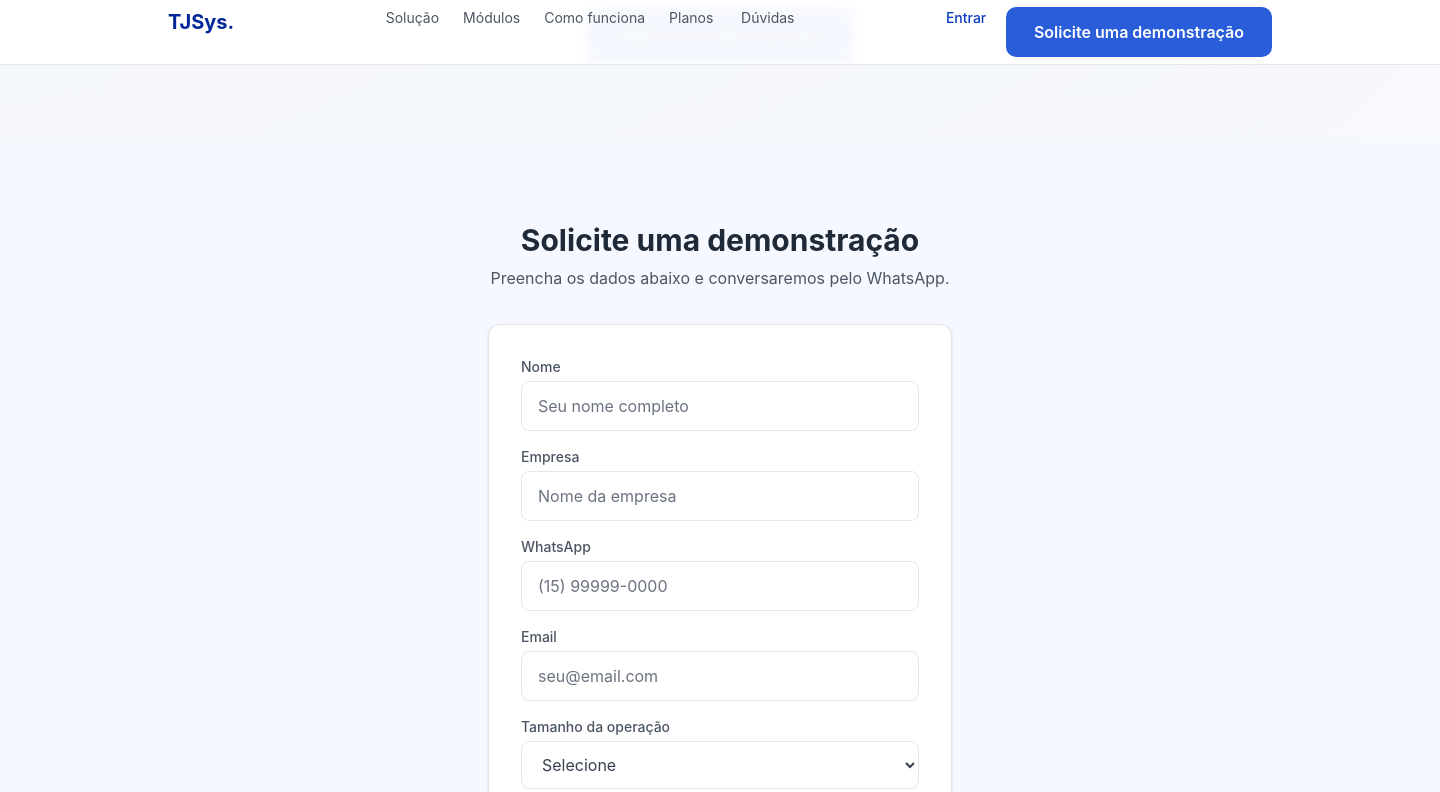
Test case: LandingPage › rejeita WhatsApp alfabético antes de abrir o link
The width and height of the screenshot is (1440, 792).
(page scrolled)
Type "Ana Silva" into the field labelled "Nome" at (720, 406), box [521,381,919,431]
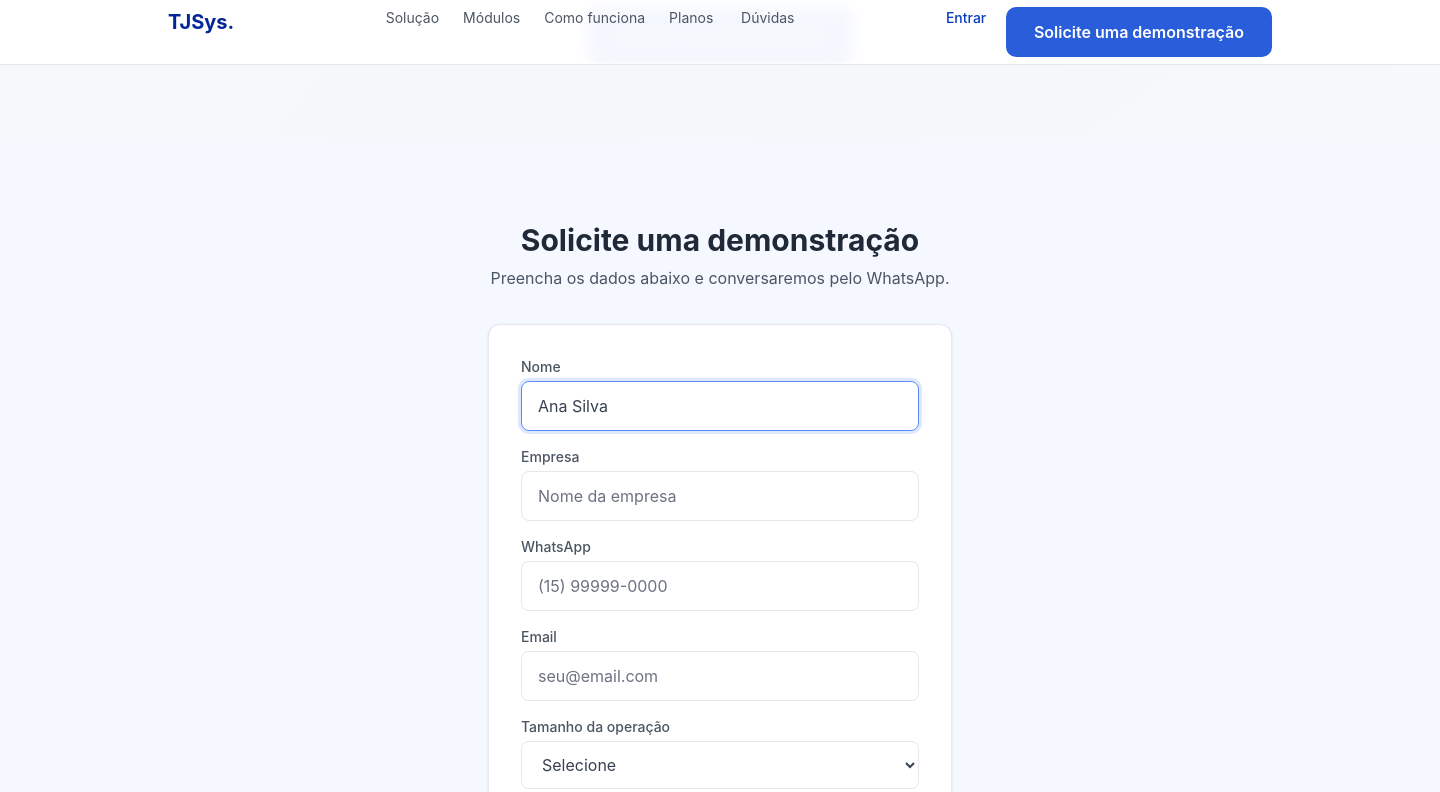
Type "Loja Central" into the field labelled "Empresa" at (720, 496), box [521,471,919,521]
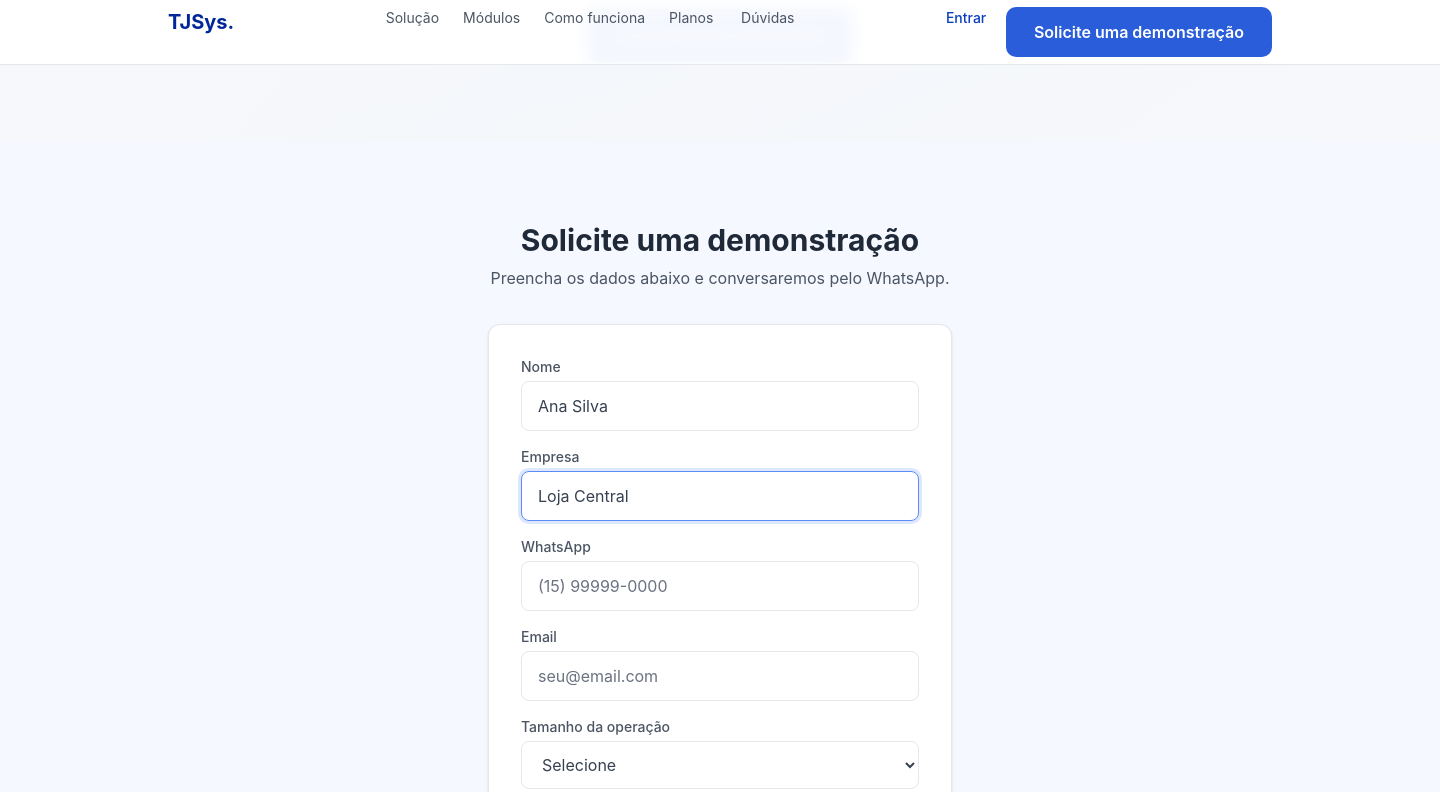
Type "15999ABC99" into the field labelled "WhatsApp" at (720, 586), box [521,561,919,611]
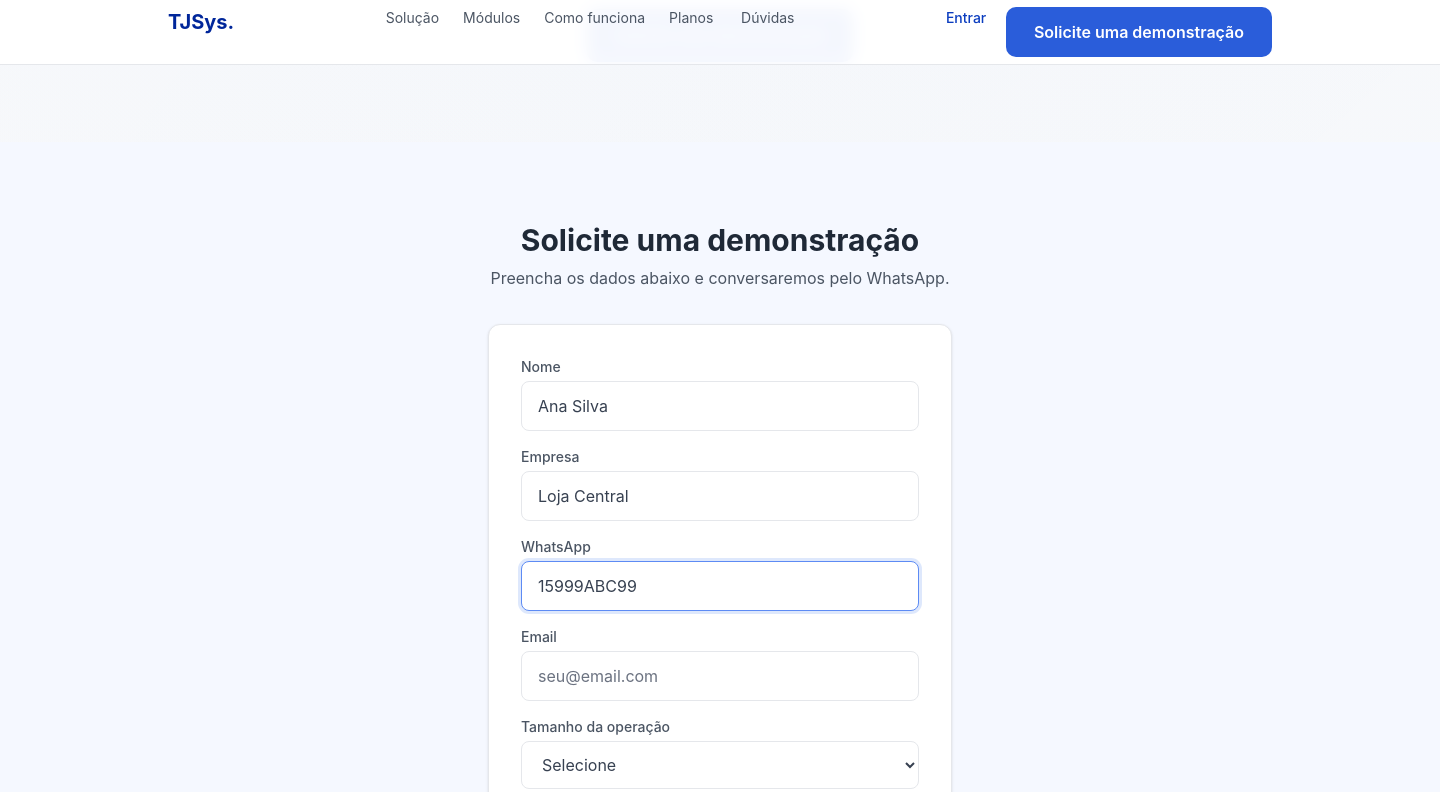
Type "ana@example.com" into the field labelled "Email" at (720, 676), box [521,651,919,701]
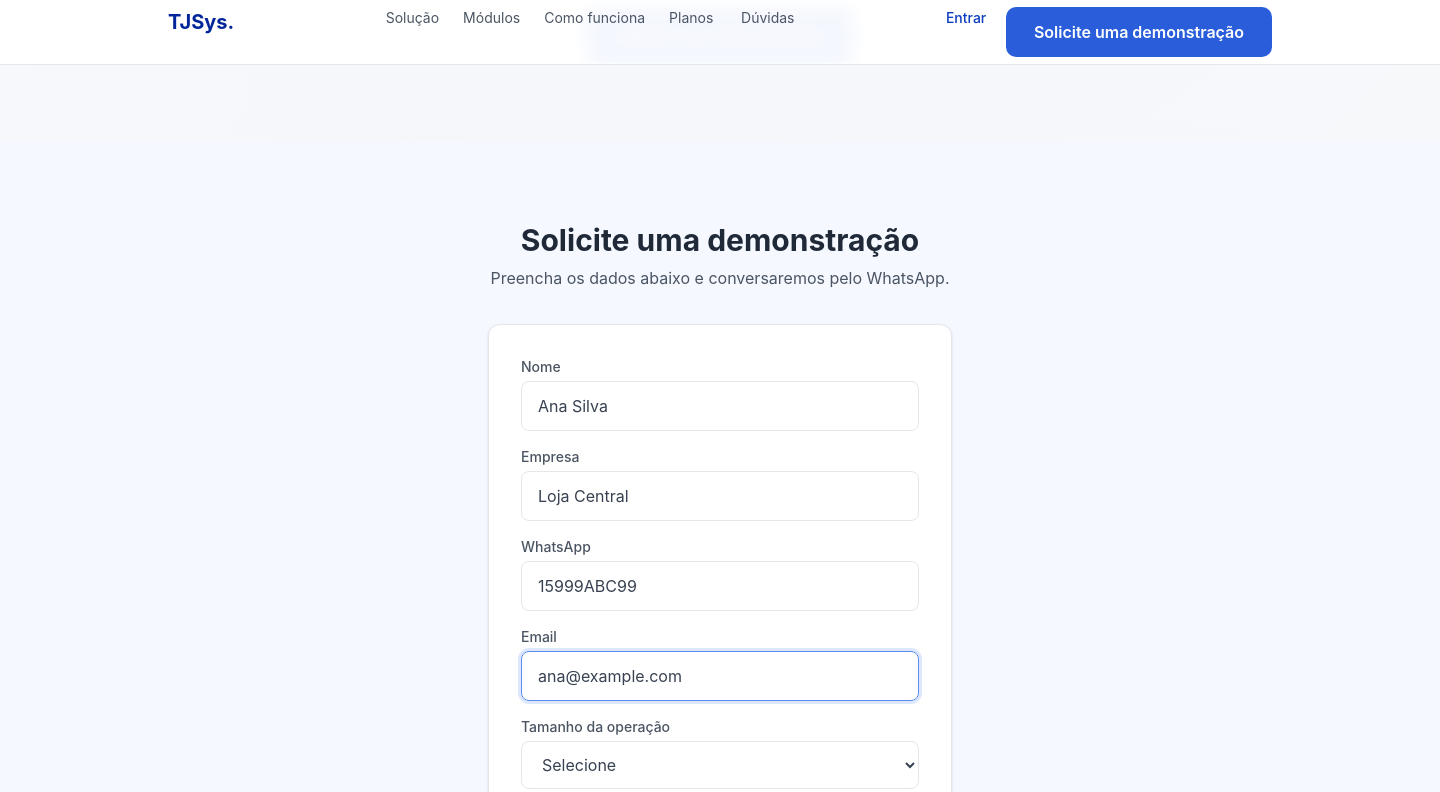
Select "Pequena (1-2 lojas)" in the dropdown labelled "Tamanho da operação" at (720, 765), box [521,741,919,789]
(page scrolled)
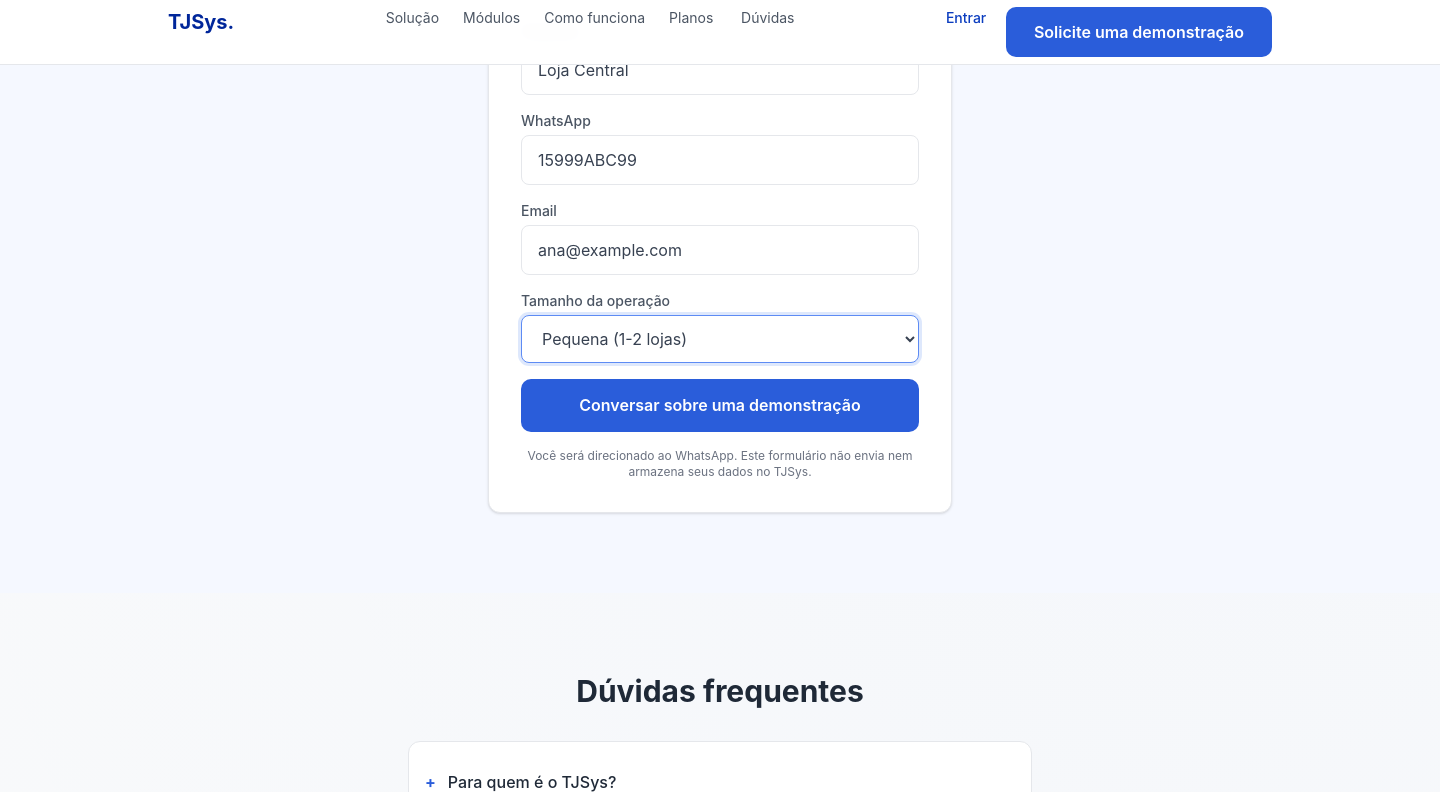
Click the button "Conversar sobre uma demonstração" at (720, 406), box [521,379,919,432]
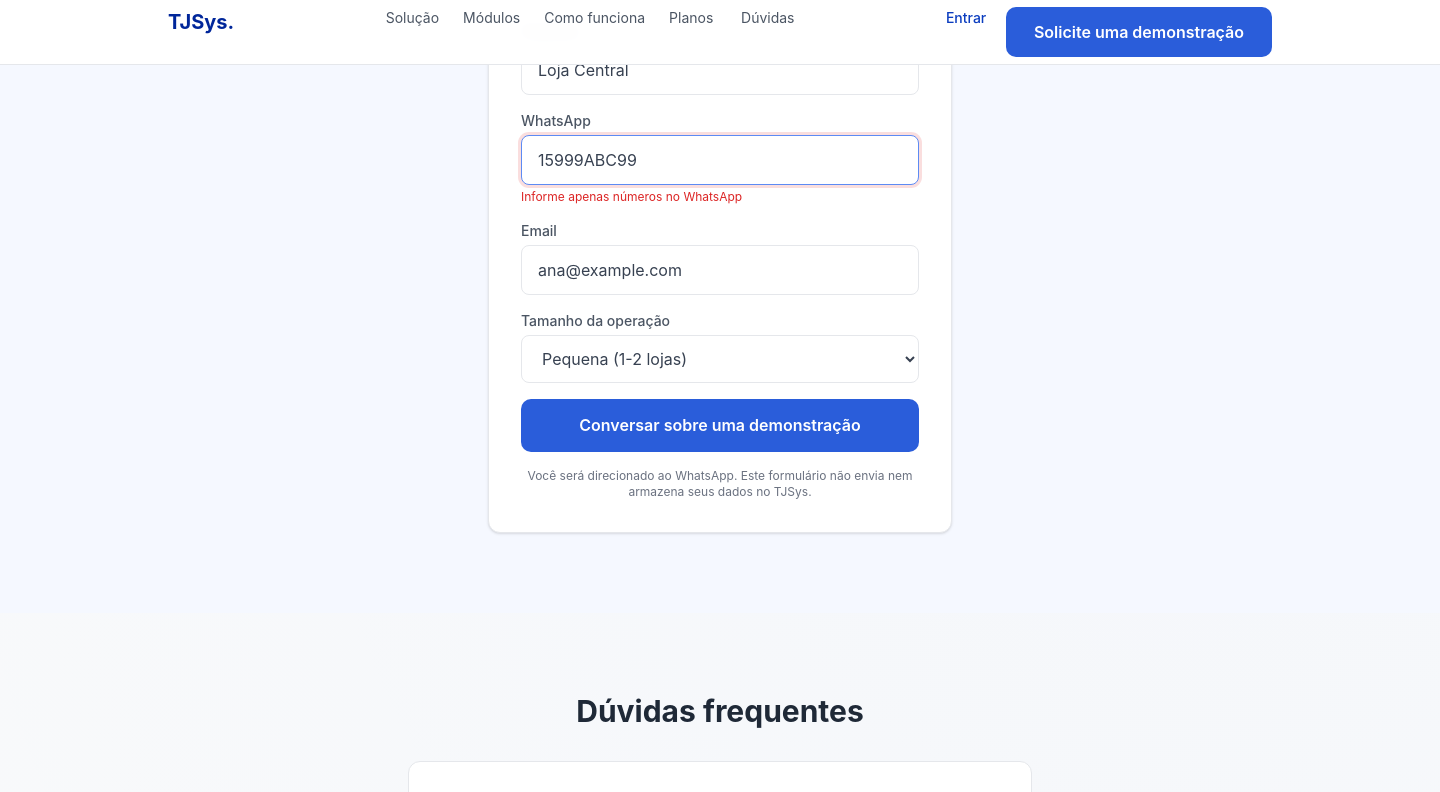
Now the text "Informe apenas números no WhatsApp" is shown, box [521,189,742,204]
